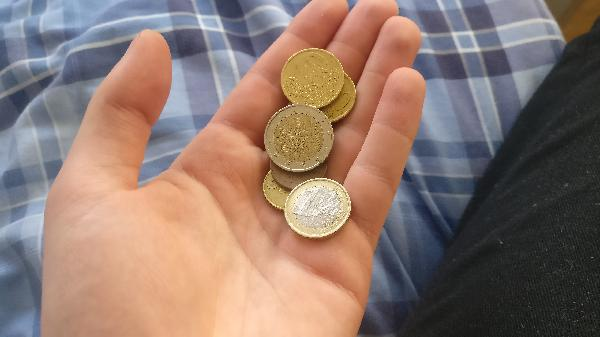Fifty Cent: (278, 48, 346, 111)
Five Cent: (266, 147, 328, 192)
One Euro: (284, 176, 354, 241)
Two Euro: (265, 102, 335, 171)
